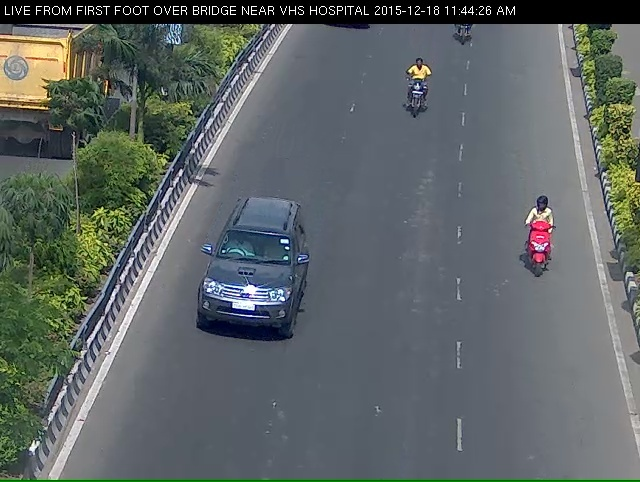Car: (186, 210, 307, 379)
Person: (518, 214, 563, 299), (393, 60, 433, 137)
